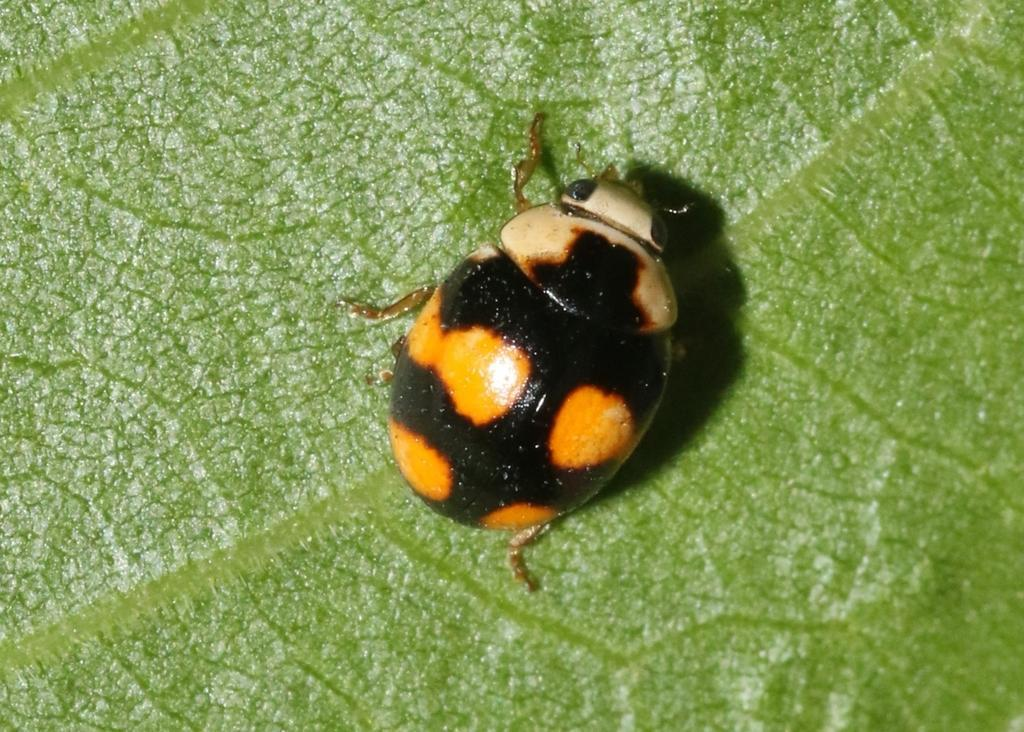ladybug: (349, 105, 709, 599)
